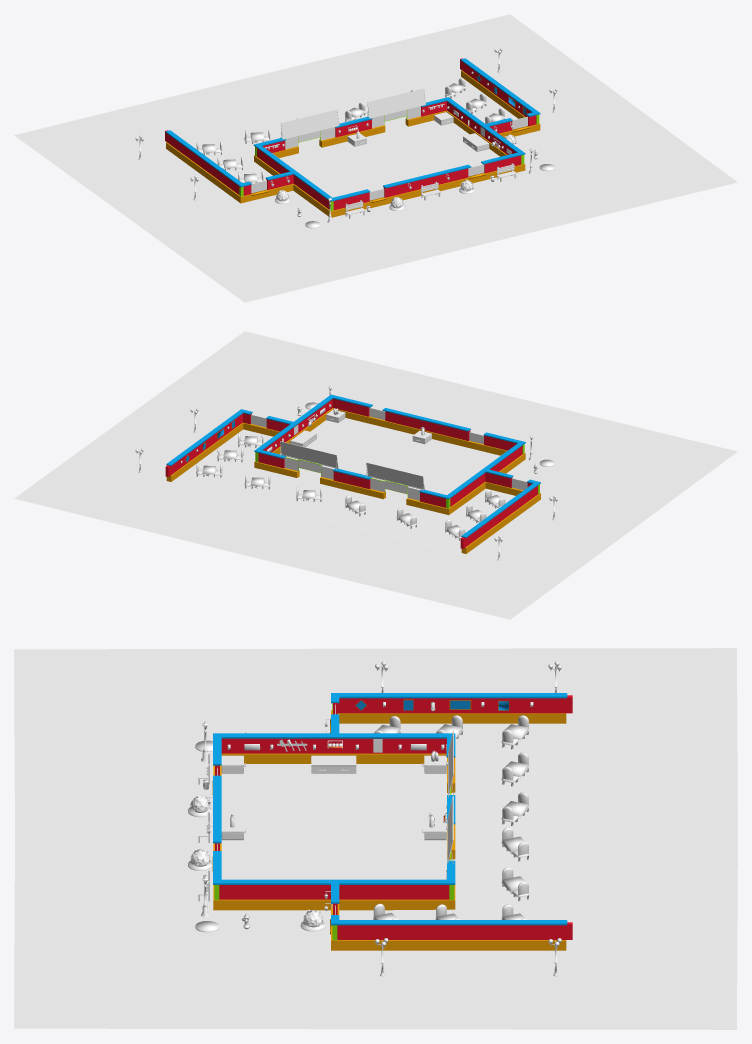
File: Level.fbx
3 views of the same model, one above another, from view 1: azimuth 30°, elevation 25°; view 2: azimuth 150°, elevation 25°; view 3: azimuth 270°, elevation 25° (orthographic). The views are drawn at different scales.
Parts seen in each view (by area): view 1: Level; view 2: Level; view 3: Level.
Boxes of the visible parts, bbox=[...] form: Level: bbox=[14, 14, 737, 302]; Level: bbox=[14, 331, 737, 619]; Level: bbox=[14, 648, 737, 1029].
Size of the model in its own units: 7655 by 518 by 6136.
